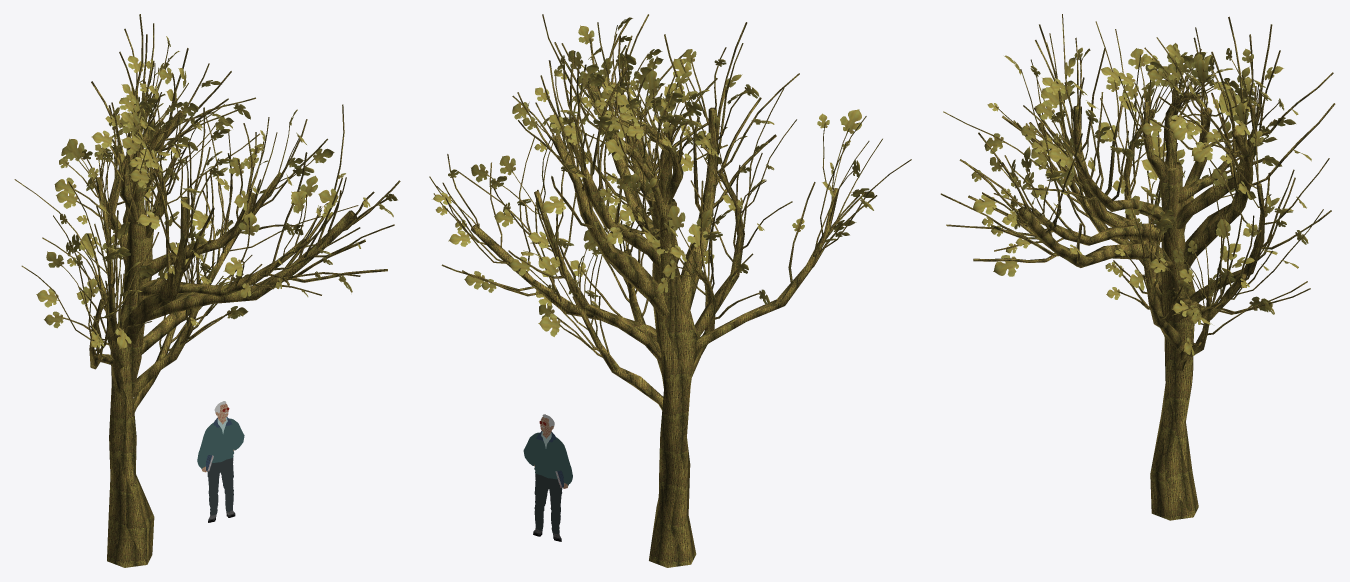
3 views of the same model, side by side, from view 1: azimuth 30°, elevation 25°; view 2: azimuth 150°, elevation 25°; view 3: azimuth 270°, elevation 25° (orthographic). The views are drawn at different scales.
Parts seen in each view (by area): view 1: stemslevel1 (×12), stemslevel0, Steve (×2); view 2: stemslevel1 (×10), stemslevel0, Steve (×2); view 3: stemslevel1 (×15), stemslevel0.
Boxes of the visible parts, x1,y1,x2,y2 form: stemslevel1 (×12): (89,128,356,412); stemslevel0: (107,218,154,567); Steve (×2): (197,418,244,515); stemslevel1 (×10): (471,84,838,410); stemslevel0: (649,199,697,567); Steve (×2): (523,432,572,534); stemslevel1 (×15): (1018,92,1265,370); stemslevel0: (1150,162,1198,520).
Bounding box in the file's own units: 233 × 194 × 279.
Materials: 16 (4 with a texture image).
